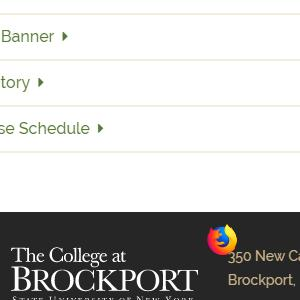firefox: (207, 223, 238, 256)
